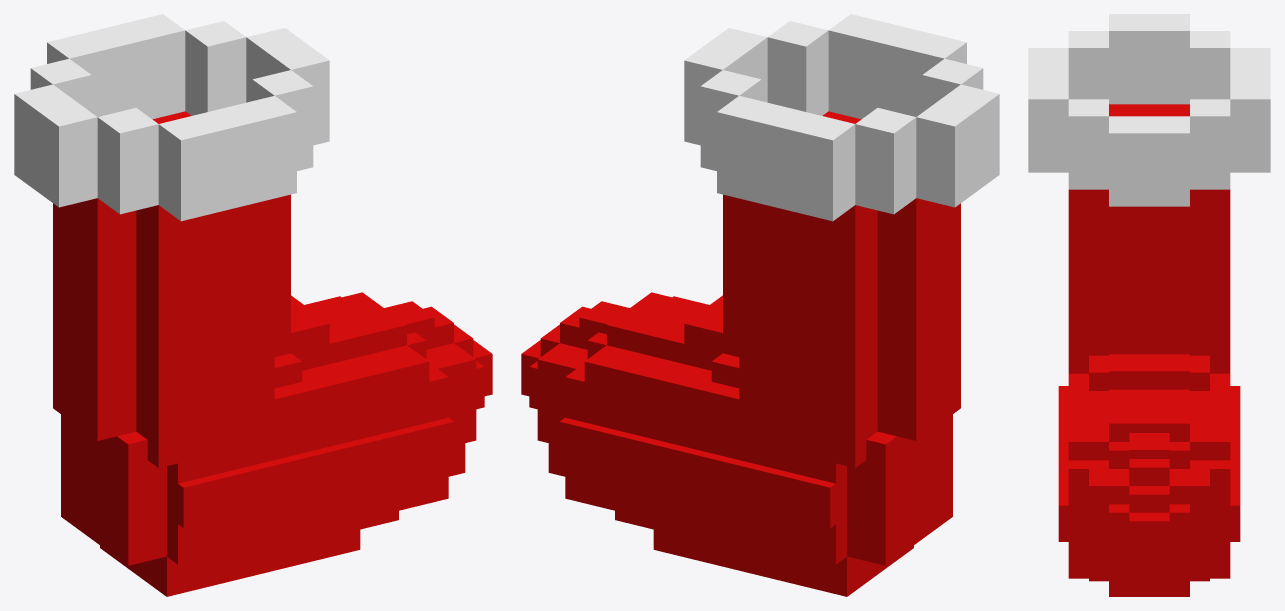
Rendered from Sock.FBX.
3 views of the same model, side by side, from view 1: azimuth 30°, elevation 25°; view 2: azimuth 150°, elevation 25°; view 3: azimuth 270°, elevation 25° (orthographic). The views are drawn at different scales.
Visible parts, largest first — view 1: Box218, Box216, Box220, Box211, Box155, Box206, Box123, Box202, Box137, Box150, Box170, Box204 (+94 smaller); view 2: Box219, Box217, Box221, Box210, Box154, Box207, Box124, Box203, Box139, Box151, Box171, Box205 (+94 smaller); view 3: Box208, Box220, Box219, Box213, Box211, Box209, Box221, Box210, Box212, Box218, Box163, Box051 (+71 smaller).
Boxes of the visible parts, x1=… form: Box218: x1=97, y1=107, x2=158, y2=173; Box216: x1=158, y1=114, x2=219, y2=180; Box220: x1=36, y1=101, x2=97, y2=166; Box211: x1=185, y1=21, x2=246, y2=86; Box155: x1=75, y1=303, x2=136, y2=359; Box206: x1=36, y1=151, x2=97, y2=207; Box123: x1=75, y1=384, x2=136, y2=440; Box202: x1=158, y1=165, x2=219, y2=221; Box137: x1=136, y1=330, x2=197, y2=386; Box150: x1=75, y1=344, x2=136, y2=400; Box170: x1=75, y1=222, x2=136, y2=278; Box204: x1=97, y1=158, x2=158, y2=214; Box219: x1=855, y1=107, x2=916, y2=173; Box217: x1=794, y1=114, x2=855, y2=180; Box221: x1=916, y1=101, x2=977, y2=166; Box210: x1=767, y1=21, x2=828, y2=86; Box154: x1=877, y1=303, x2=938, y2=359; Box207: x1=916, y1=151, x2=977, y2=207; Box124: x1=877, y1=384, x2=938, y2=440; Box203: x1=794, y1=165, x2=855, y2=221; Box139: x1=816, y1=330, x2=877, y2=386; Box151: x1=877, y1=344, x2=938, y2=400; Box171: x1=877, y1=222, x2=938, y2=278; Box205: x1=855, y1=158, x2=916, y2=214; Box208: x1=1149, y1=116, x2=1189, y2=169; Box220: x1=1109, y1=14, x2=1149, y2=67; Box219: x1=1190, y1=31, x2=1230, y2=84; Box213: x1=1230, y1=82, x2=1270, y2=135; Box211: x1=1190, y1=99, x2=1230, y2=152; Box209: x1=1109, y1=116, x2=1149, y2=169; Box221: x1=1149, y1=14, x2=1189, y2=67; Box210: x1=1068, y1=99, x2=1108, y2=152; Box212: x1=1028, y1=82, x2=1068, y2=135; Box218: x1=1068, y1=31, x2=1108, y2=84; Box163: x1=1129, y1=512, x2=1169, y2=557; Box051: x1=1169, y1=469, x2=1209, y2=522.
Size of the model in its own units: 46 by 48 by 24.
